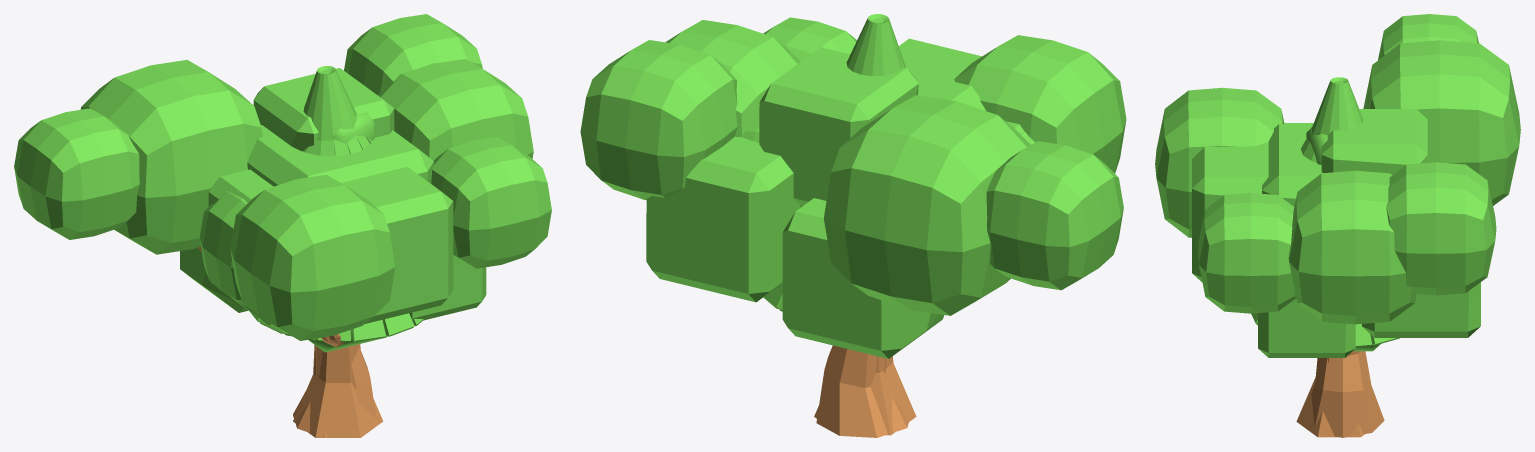
File: Arboles.fbx
The picture shows the model from 3 angles, left to right: view 1: azimuth 30°, elevation 25°; view 2: azimuth 150°, elevation 25°; view 3: azimuth 270°, elevation 25°; orthographic projection. The views are drawn at different scales.
Parts seen in each view (by area): view 1: Arbol4.001, Arbol2.095, Pino1.002, Arbol1.002; view 2: Arbol4.001, Arbol2.095, Pino1.002; view 3: Arbol4.001, Arbol2.095, Pino1.002, Arbol1.002.
Part boxes in pixels (x1,y1,x2,y2): Arbol4.001: (14,14,551,346); Arbol2.095: (180,68,486,437); Pino1.002: (249,66,423,437); Arbol1.002: (308,112,386,352); Arbol4.001: (580,17,1126,315); Arbol2.095: (646,38,1024,437); Pino1.002: (763,14,916,435); Arbol4.001: (1155,14,1520,324); Arbol2.095: (1192,109,1480,437); Pino1.002: (1251,77,1399,437); Arbol1.002: (1306,126,1380,351).
Size of the model in its own units: 9.99 by 7.69 by 7.51.
